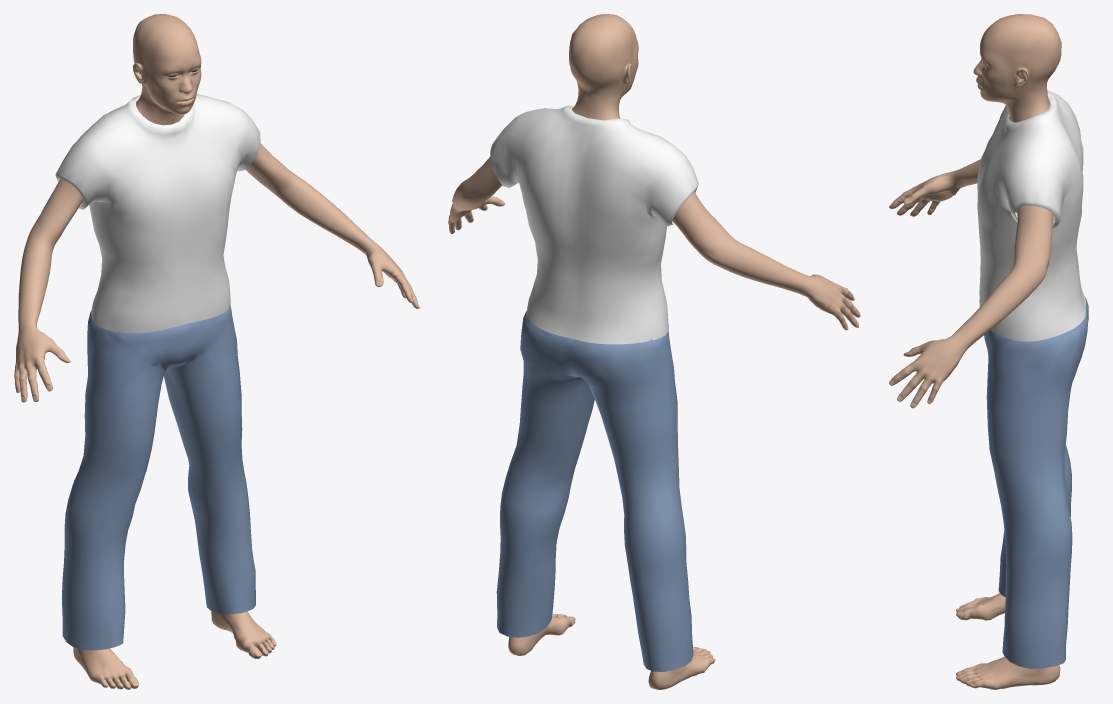
The model's file is body_slim.glb.
3 views of the same model, side by side, from view 1: azimuth 30°, elevation 25°; view 2: azimuth 150°, elevation 25°; view 3: azimuth 270°, elevation 25° (orthographic).
Visible parts, largest first — view 1: jeans_M, tee_M, body; view 2: jeans_M, tee_M, body; view 3: jeans_M, body, tee_M.
Boxes of the visible parts, x1,y1,x2,y2 form: jeans_M: [62, 304, 255, 650]; tee_M: [55, 94, 260, 333]; body: [14, 14, 419, 689]; jeans_M: [496, 311, 693, 671]; tee_M: [490, 105, 698, 344]; body: [448, 14, 860, 689]; jeans_M: [984, 297, 1088, 668]; body: [889, 14, 1061, 689]; tee_M: [977, 90, 1085, 341].
Bounding box in the file's own units: 1.13 × 1.73 × 0.5208.
Materials: 10 (8 with a texture image).
